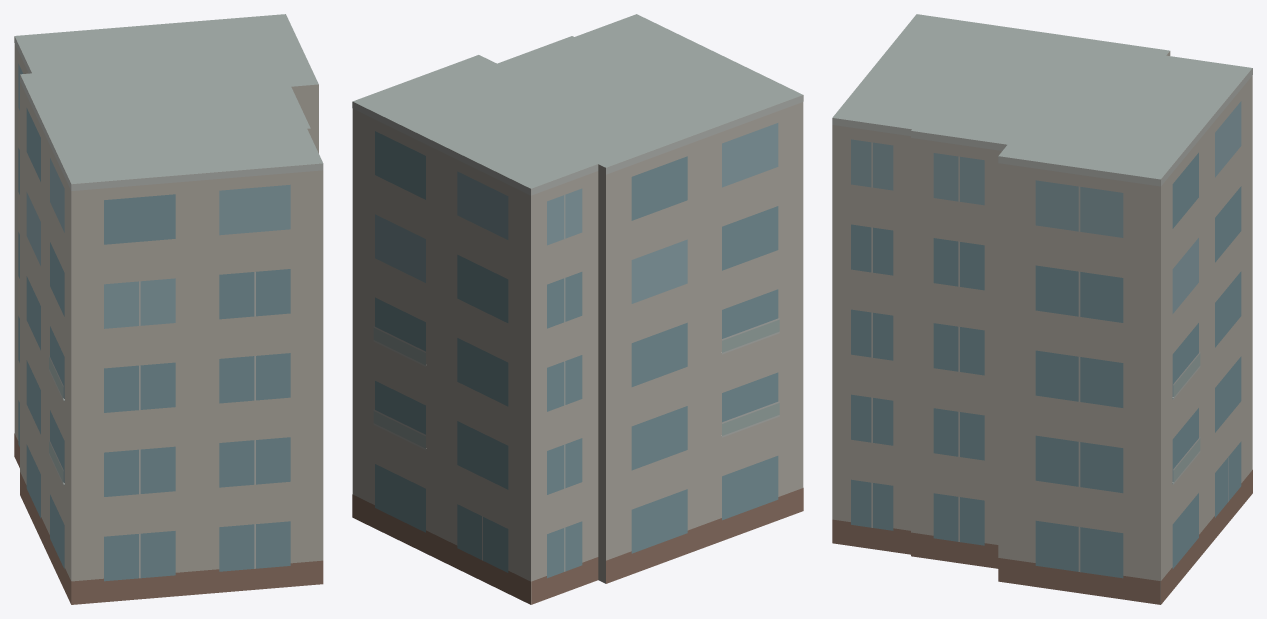
The model's file is survey-upis-32529735.glb.
The picture shows the model from 3 angles, left to right: view 1: azimuth 30°, elevation 25°; view 2: azimuth 150°, elevation 25°; view 3: azimuth 270°, elevation 25°; orthographic projection. The views are drawn at different scales.
Visible parts, largest first — view 1: survey-upis-32529735.tmp; view 2: survey-upis-32529735.tmp; view 3: survey-upis-32529735.tmp.
Part boxes in pixels (bbox=[...]): survey-upis-32529735.tmp: bbox=[14, 14, 323, 604]; survey-upis-32529735.tmp: bbox=[352, 14, 803, 604]; survey-upis-32529735.tmp: bbox=[832, 14, 1252, 604].
Size of the model in its own units: 12.35 by 14.8 by 13.27.
